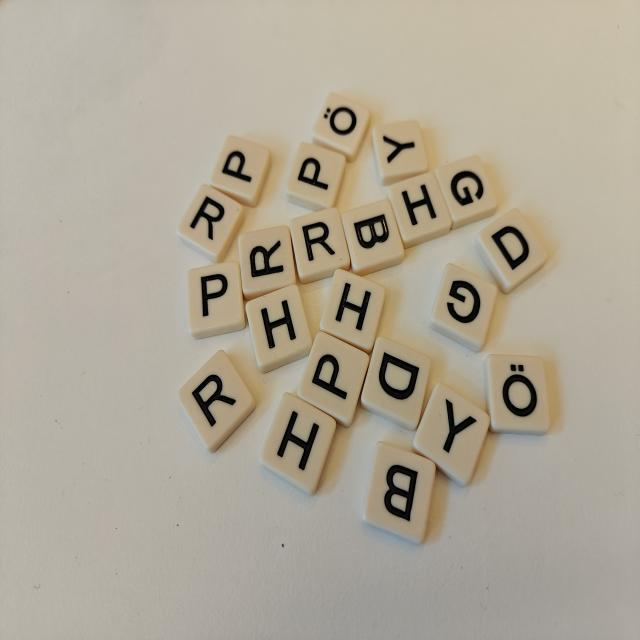b: (363, 442, 436, 543), (342, 200, 404, 275)
d: (361, 336, 430, 430), (476, 209, 547, 293)
g: (429, 264, 497, 351), (435, 156, 497, 229)
h: (261, 393, 336, 494), (246, 285, 312, 372), (320, 270, 385, 353), (389, 173, 452, 249)
o_dot: (485, 354, 550, 434), (312, 93, 370, 162)
p: (298, 332, 369, 427), (188, 261, 245, 339), (210, 136, 271, 207), (286, 142, 346, 210)
r: (179, 350, 255, 451), (177, 185, 244, 263), (290, 208, 350, 283), (239, 226, 295, 300)
y: (413, 382, 490, 485), (372, 121, 428, 186)
